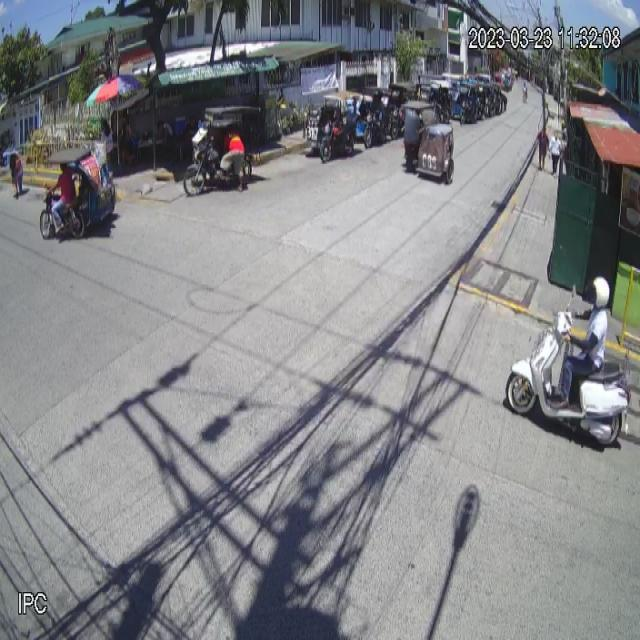Motorcycle: (506, 283, 632, 448)
Tricycle: (39, 148, 118, 238), (400, 100, 455, 185)
